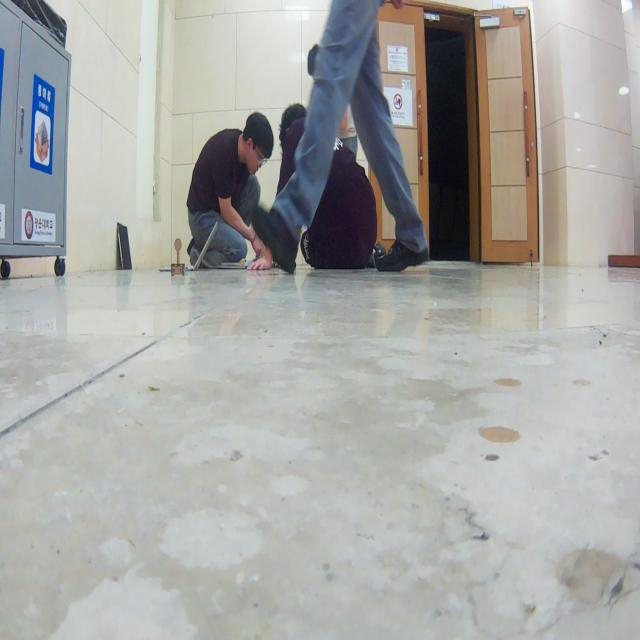target: (171, 238, 186, 276)
